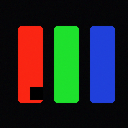1 square: (30, 87, 42, 99)
